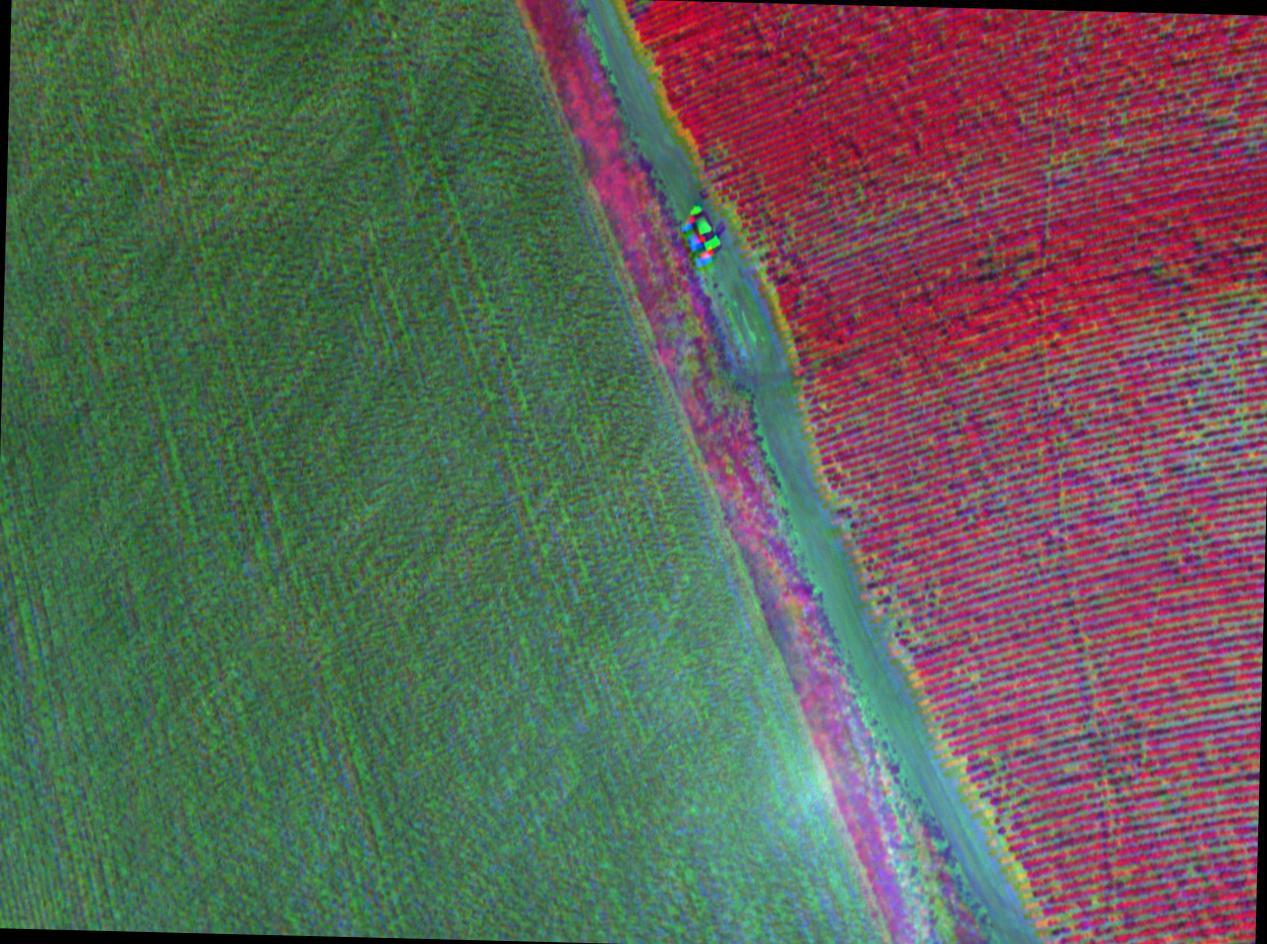dc: (1091, 438, 1207, 565), (821, 475, 940, 579), (1166, 298, 1267, 412), (881, 595, 983, 705), (971, 733, 1053, 839)
